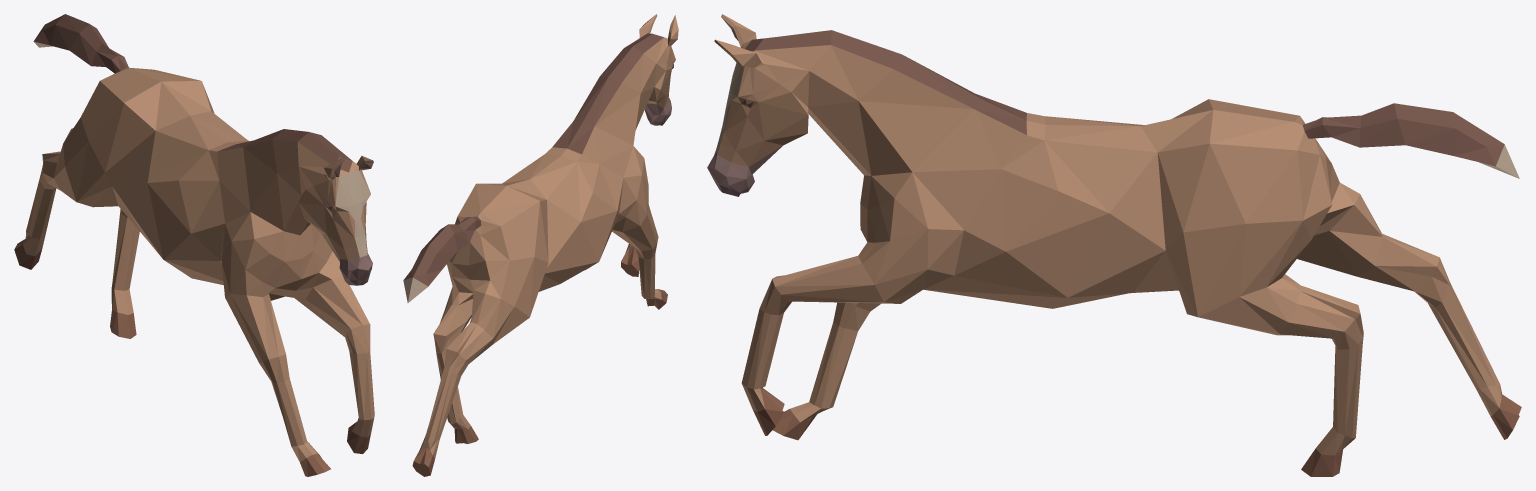
File: Horse.glb
3 views of the same model, side by side, from view 1: azimuth 30°, elevation 25°; view 2: azimuth 150°, elevation 25°; view 3: azimuth 270°, elevation 25° (orthographic). The views are drawn at different scales.
Visible parts, largest first — view 1: mesh_0; view 2: mesh_0; view 3: mesh_0.
Part boxes in pixels (x1,y1,x2,y2): mesh_0: [14, 14, 374, 476]; mesh_0: [403, 14, 678, 476]; mesh_0: [707, 14, 1521, 476].
Size of the model in its own units: 59.46 by 175 by 289.
